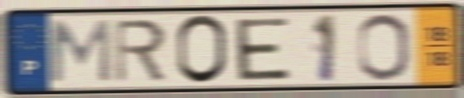1: (309, 12, 340, 84)
E: (232, 15, 293, 83)
M: (48, 17, 114, 85)
O: (174, 13, 230, 87), (355, 12, 413, 83)
R: (112, 17, 169, 86)
